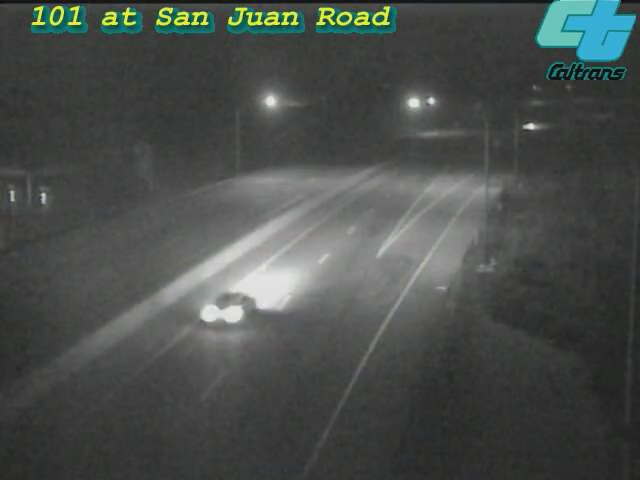vehicle: (183, 265, 263, 345), (505, 102, 555, 152)
